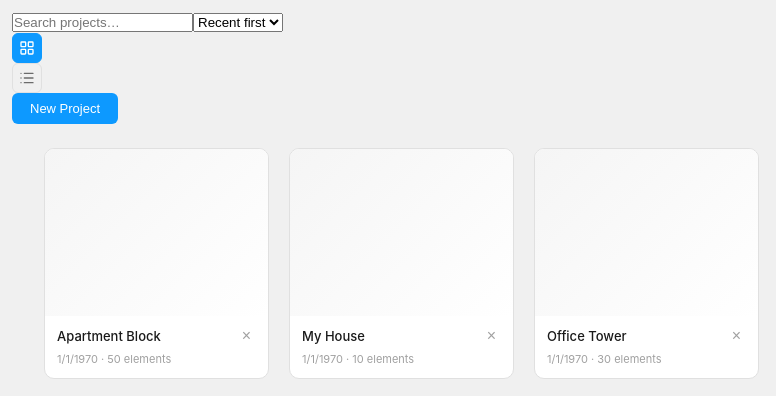
Scenario: T-DOC-010: ProjectBrowser › T-DOC-010-002: search filters by name (case-insensitive)
This screenshot has width=776, height=396.
Type "house" into the field with test id "project-search".
click(102, 22); type("house")  # box [12,13,193,32]
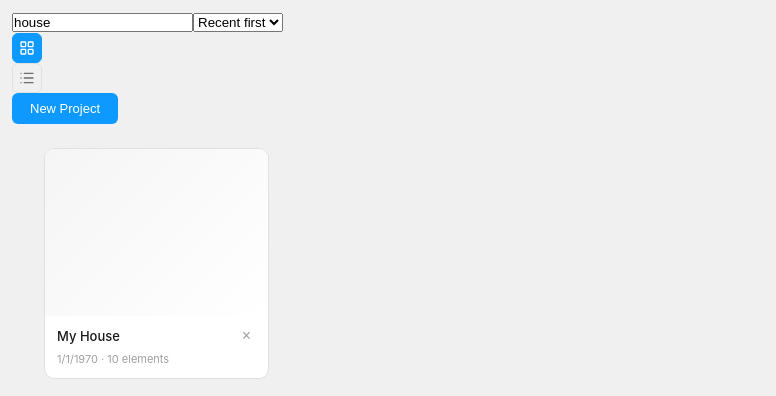
Check: the text "My House" is shown, box [57,328,120,344]
Check: the button with test id "project-card-p2" is gone
